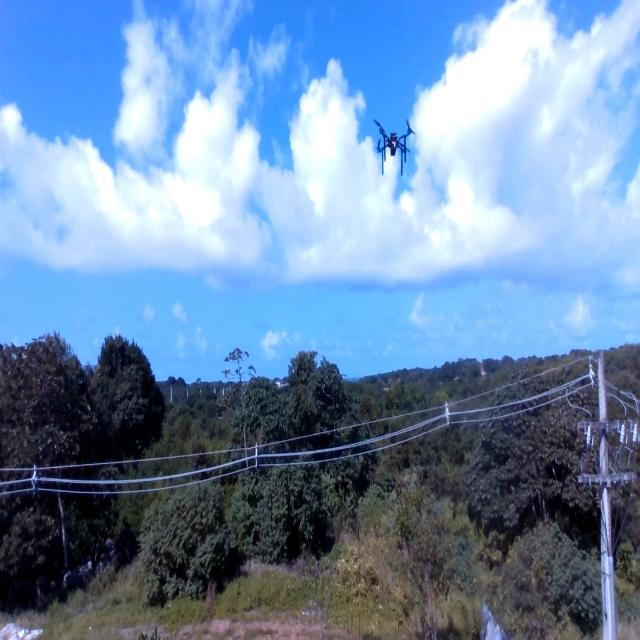-uav-: (362, 112, 422, 178)
